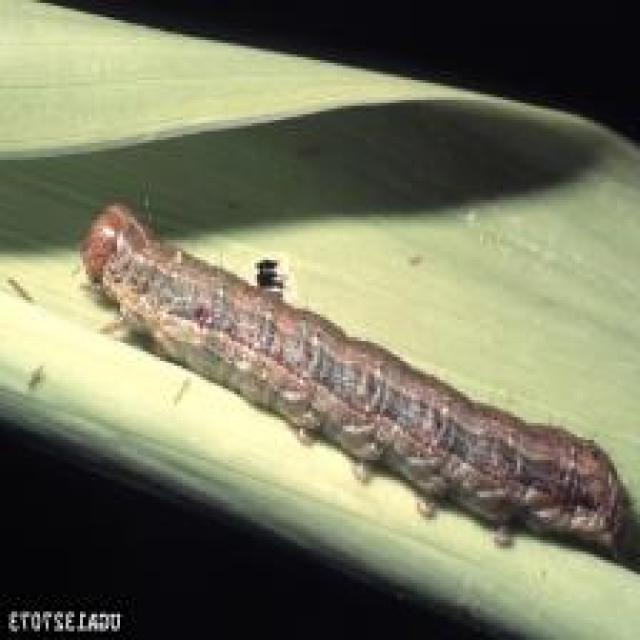Plaga: (32, 197, 640, 577)
